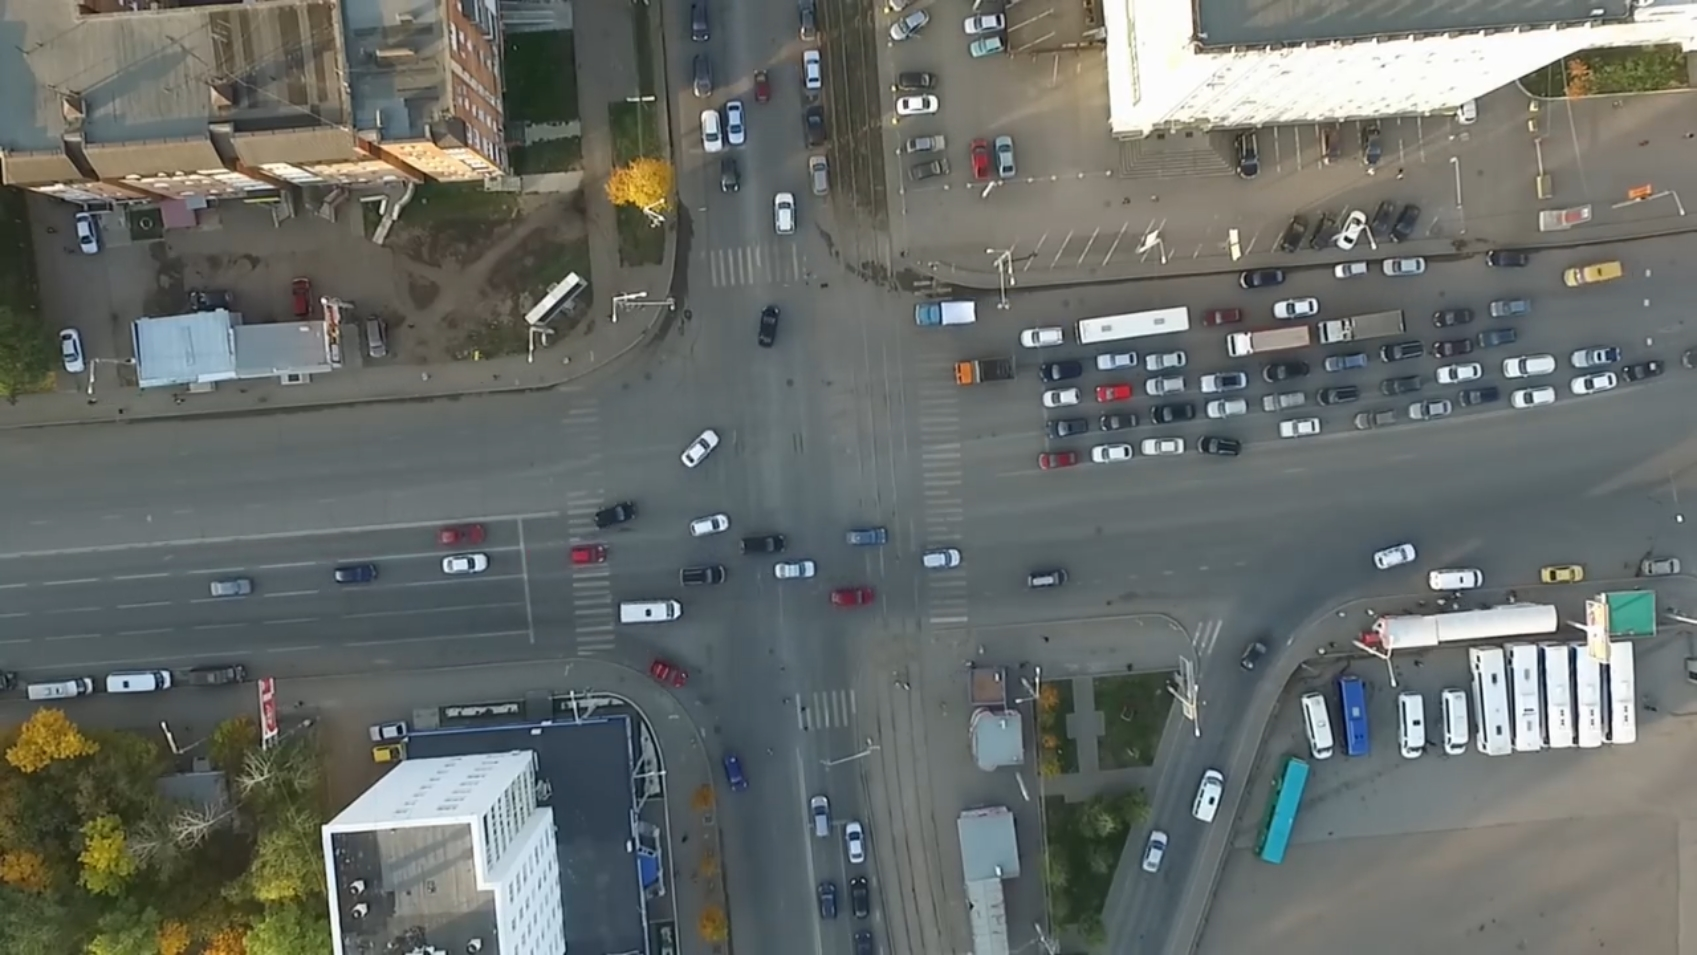car: (1467, 644, 1514, 757), (1068, 306, 1197, 342), (1504, 640, 1544, 752), (1536, 642, 1575, 747), (1599, 645, 1639, 745), (1317, 311, 1411, 345), (1571, 641, 1601, 745), (1339, 674, 1373, 759), (1225, 326, 1311, 357), (1395, 689, 1431, 761), (1296, 694, 1338, 756), (1562, 257, 1627, 289), (103, 666, 176, 694), (911, 300, 983, 328), (1441, 686, 1469, 754), (883, 9, 936, 45), (953, 354, 1018, 384), (1191, 766, 1224, 823), (679, 430, 725, 469), (1425, 566, 1485, 594), (1500, 351, 1558, 379), (1372, 541, 1418, 576), (184, 662, 245, 689), (1233, 131, 1266, 180), (24, 679, 100, 700), (719, 750, 753, 796), (645, 658, 693, 689), (697, 106, 728, 155), (686, 510, 734, 540), (615, 599, 681, 622), (439, 550, 493, 577), (1379, 252, 1429, 280), (1508, 384, 1559, 410), (1569, 344, 1622, 370), (1570, 370, 1621, 396), (362, 315, 392, 361), (592, 501, 643, 527), (1538, 560, 1590, 585), (56, 330, 86, 373), (690, 55, 718, 101), (1360, 125, 1389, 169), (1019, 324, 1066, 351), (1477, 323, 1525, 350), (1335, 208, 1365, 250), (1140, 828, 1169, 871), (1260, 389, 1311, 414), (755, 301, 782, 347), (800, 103, 828, 147), (1196, 431, 1241, 458), (915, 545, 960, 571), (73, 212, 101, 255), (1323, 351, 1372, 375), (962, 10, 1011, 35), (1235, 266, 1287, 289), (1038, 357, 1085, 382), (1274, 415, 1325, 438), (1281, 212, 1309, 254), (1090, 442, 1138, 466), (1407, 395, 1455, 420), (435, 524, 483, 548), (774, 188, 798, 236), (1149, 401, 1199, 424), (1393, 201, 1420, 244), (207, 576, 254, 601), (816, 879, 846, 917), (1319, 125, 1346, 167), (1435, 361, 1485, 384), (364, 719, 414, 742), (1270, 299, 1321, 321), (969, 136, 994, 180), (1240, 637, 1267, 677), (1093, 349, 1140, 372), (895, 69, 939, 93), (1034, 449, 1085, 470), (1090, 380, 1135, 403), (333, 562, 379, 585), (1200, 304, 1248, 326), (1140, 435, 1188, 457), (966, 35, 1009, 59), (1197, 374, 1256, 392), (1485, 247, 1531, 269), (895, 93, 944, 114), (808, 153, 830, 198), (1368, 197, 1392, 240), (1432, 335, 1476, 358), (741, 533, 784, 556), (1378, 340, 1425, 361), (1378, 375, 1425, 396), (842, 526, 889, 547), (1490, 296, 1530, 321), (770, 560, 815, 582), (1263, 360, 1310, 381), (1353, 408, 1400, 429), (810, 796, 831, 843), (801, 51, 825, 91), (1043, 385, 1080, 410), (851, 876, 873, 919), (679, 564, 725, 585), (1140, 375, 1188, 395), (725, 97, 745, 145), (293, 275, 314, 319), (1431, 308, 1476, 329), (1097, 412, 1143, 431), (1204, 399, 1251, 419), (1456, 387, 1502, 407), (1619, 360, 1666, 380), (1639, 556, 1682, 577), (1314, 210, 1336, 251), (909, 159, 955, 178), (1044, 417, 1090, 437), (997, 135, 1018, 177), (1318, 384, 1360, 405), (369, 744, 411, 765), (1145, 350, 1189, 370), (570, 545, 611, 566), (902, 134, 948, 153), (824, 587, 869, 605), (1028, 570, 1069, 590), (721, 155, 741, 195), (1330, 260, 1369, 279), (797, 7, 816, 45), (749, 66, 769, 103), (691, 1, 709, 42), (846, 822, 862, 862), (853, 929, 876, 955), (1458, 99, 1478, 125), (1680, 347, 1697, 370)
